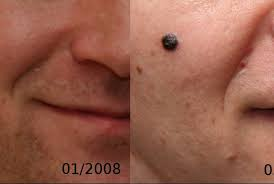tahilalat: (129, 1, 230, 118)
